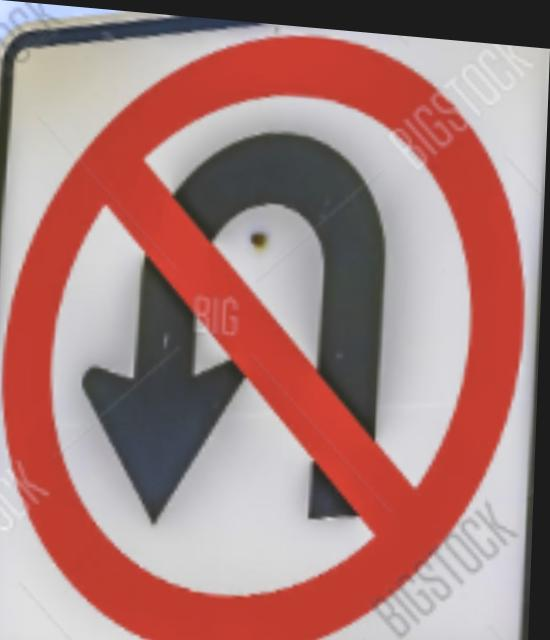not_u_turn_left: (0, 34, 538, 640)
